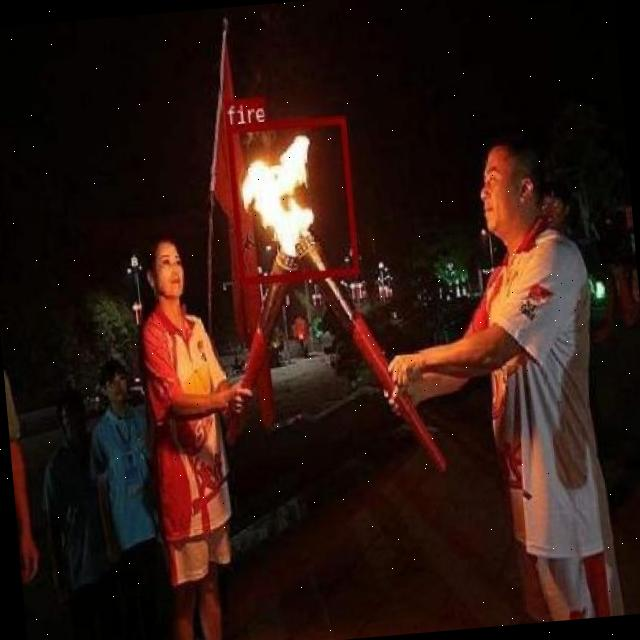fire: (226, 115, 358, 284)
